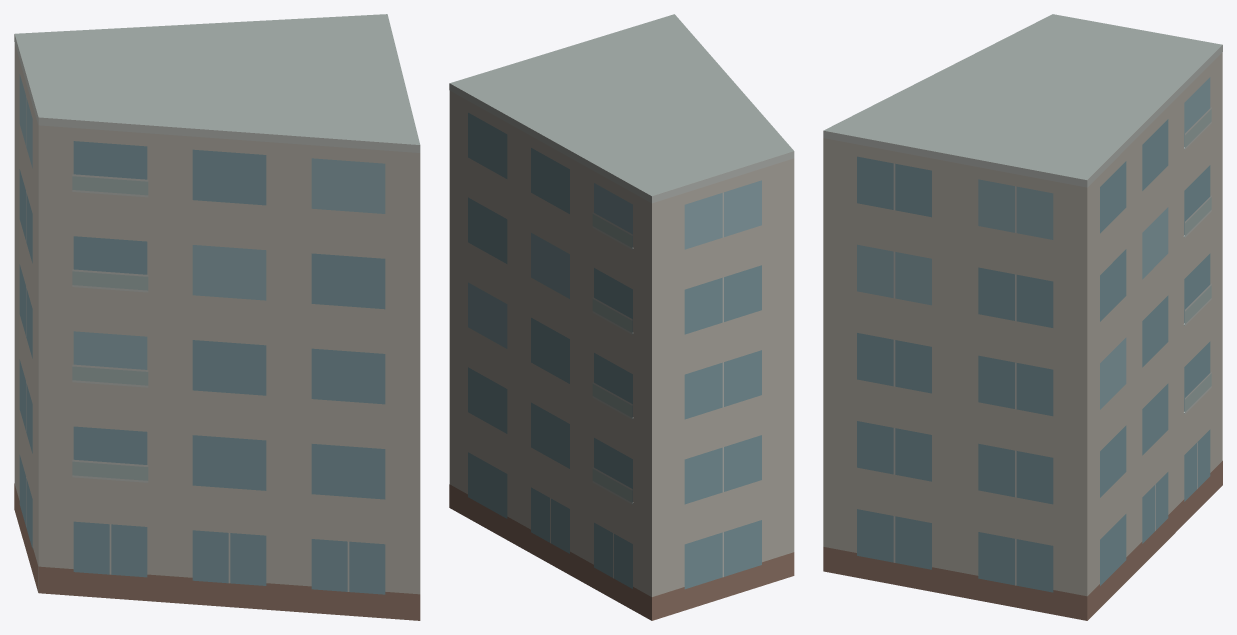
The model's file is survey-upis-32476797.glb.
3 views of the same model, side by side, from view 1: azimuth 30°, elevation 25°; view 2: azimuth 150°, elevation 25°; view 3: azimuth 270°, elevation 25° (orthographic). The views are drawn at different scales.
Visible parts, largest first — view 1: survey-upis-32476797.tmp; view 2: survey-upis-32476797.tmp; view 3: survey-upis-32476797.tmp.
Boxes of the visible parts, x1,y1,x2,y2 form: survey-upis-32476797.tmp: (14,14,420,620); survey-upis-32476797.tmp: (449,14,794,620); survey-upis-32476797.tmp: (823,14,1222,620).
Bounding box in the file's own units: 11.78 × 14.55 × 11.96.
